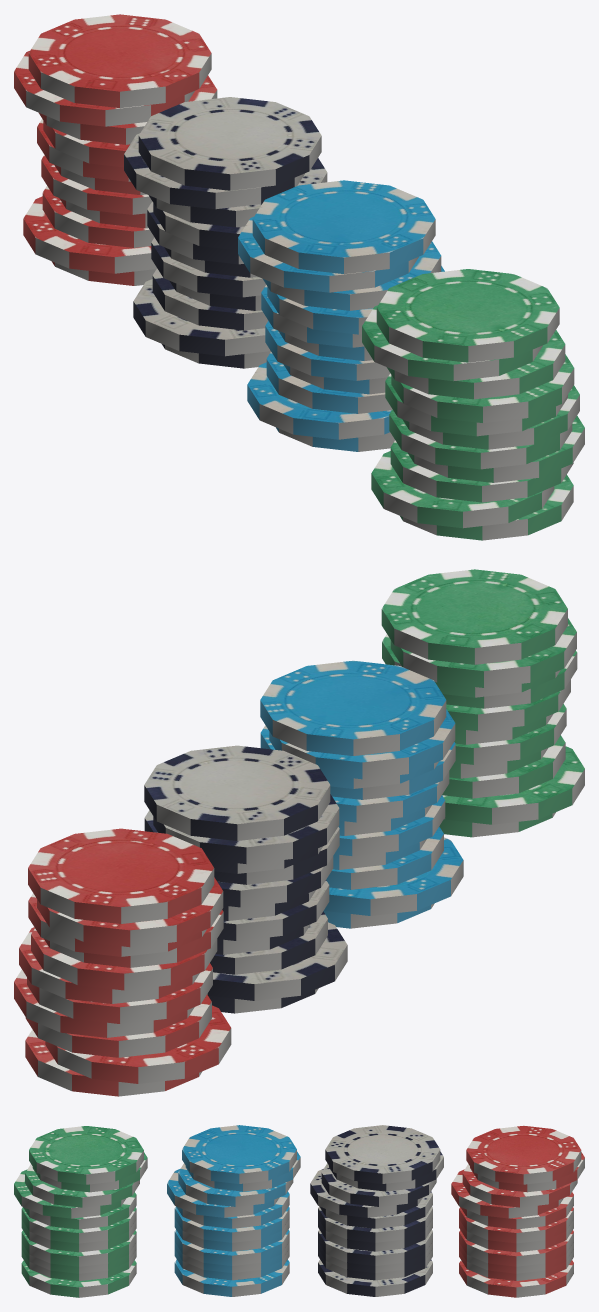
The model's file is low_poly_poker_chips.glb.
3 views of the same model, one above another, from view 1: azimuth 30°, elevation 25°; view 2: azimuth 150°, elevation 25°; view 3: azimuth 270°, elevation 25° (orthographic). The views are drawn at different scales.
Parts seen in each view (by area): view 1: Red_Chip, White_Chip, Blue_Chip, Green_Chip, Green_Chip_10, Green_Chip_4, Blue_Chip_10, White_Chip_10, Red_Chip_10, Green_Chip_3, Green_Chip_2, Blue_Chip_2 (+32 smaller); view 2: Blue_Chip, Red_Chip, Green_Chip, White_Chip, Red_Chip_10, Green_Chip_10, Red_Chip_2, Green_Chip_2, White_Chip_10, Blue_Chip_10, Red_Chip_5, Blue_Chip_2 (+32 smaller); view 3: Red_Chip, White_Chip, Blue_Chip, Green_Chip, Green_Chip_9, Blue_Chip_11, Red_Chip_9, White_Chip_11, Blue_Chip_3, White_Chip_4, Red_Chip_3, Green_Chip_3 (+32 smaller).
Boxes of the visible parts, box(x1,y1,x2,y2) form: Red_Chip: box(28, 14, 211, 108); White_Chip: box(138, 97, 321, 190); Blue_Chip: box(252, 180, 435, 273); Green_Chip: box(376, 269, 559, 362); Green_Chip_10: box(371, 451, 554, 528); Green_Chip_4: box(391, 354, 574, 422); Blue_Chip_10: box(247, 362, 391, 439); White_Chip_10: box(133, 279, 270, 356); Red_Chip_10: box(23, 196, 156, 273); Green_Chip_3: box(386, 330, 565, 399); Green_Chip_2: box(362, 305, 542, 381); Blue_Chip_2: box(238, 216, 418, 292); Blue_Chip: box(260, 660, 446, 755); Red_Chip: box(28, 828, 214, 923); Green_Chip: box(381, 569, 567, 664); White_Chip: box(144, 745, 330, 840); Red_Chip_10: box(45, 1005, 231, 1083); Green_Chip_10: box(442, 746, 584, 824); Red_Chip_2: box(37, 877, 223, 947); Green_Chip_2: box(390, 618, 576, 687); White_Chip_10: box(207, 922, 347, 1000); Blue_Chip_10: box(324, 837, 463, 915); Red_Chip_5: box(31, 928, 217, 990); Blue_Chip_2: box(269, 709, 455, 779); Red_Chip: box(466, 1125, 581, 1184); White_Chip: box(325, 1125, 440, 1183); Blue_Chip: box(182, 1125, 296, 1183); Green_Chip: box(29, 1126, 143, 1184); Green_Chip_9: box(21, 1260, 136, 1297); Blue_Chip_11: box(174, 1259, 289, 1296); Red_Chip_9: box(459, 1260, 573, 1297); White_Chip_11: box(318, 1259, 432, 1296); Blue_Chip_3: box(178, 1163, 293, 1206); White_Chip_4: box(321, 1163, 436, 1206); Red_Chip_3: box(462, 1164, 577, 1207); Green_Chip_3: box(25, 1164, 139, 1207).
Size of the model in its own units: 2.59 by 2.47 by 10.59.
4 materials, 4 textured.
